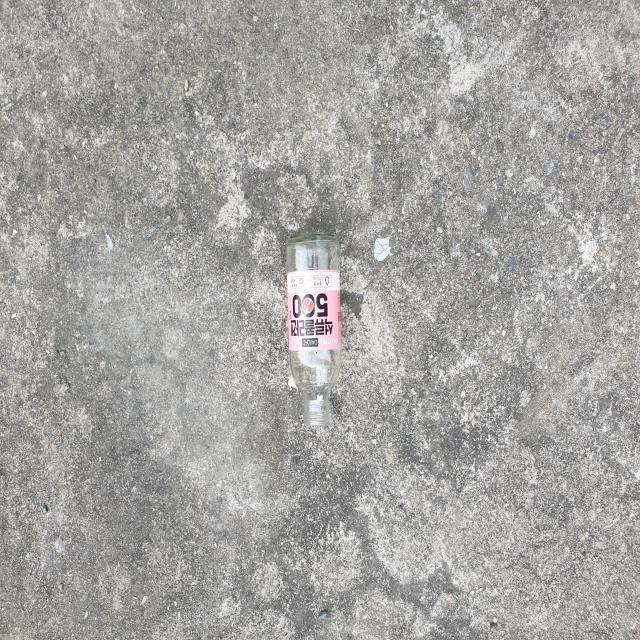glass: (287, 233, 342, 425)
